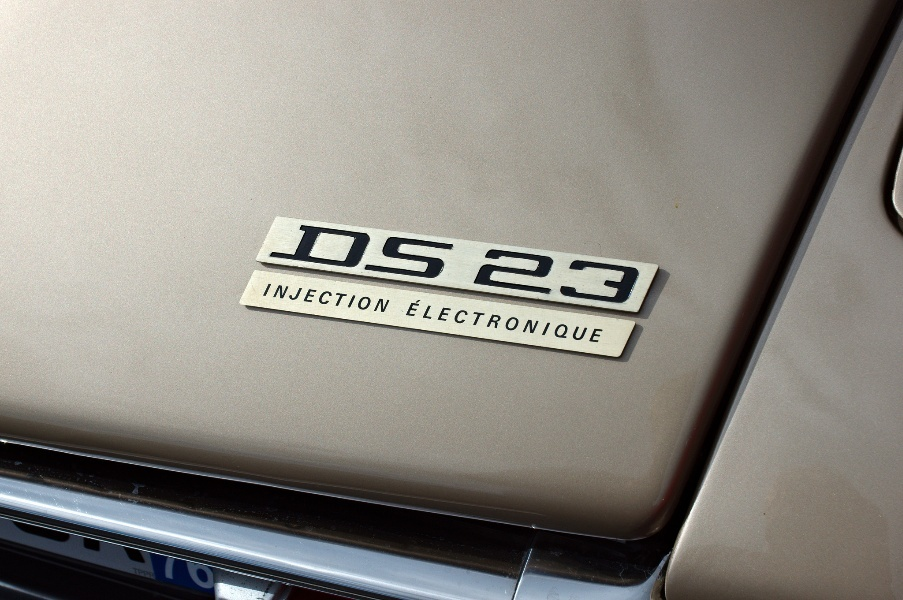text: (497, 246, 512, 309), (513, 246, 528, 309), (529, 246, 544, 309), (545, 246, 560, 309), (561, 246, 576, 309), (577, 246, 592, 309), (593, 246, 608, 309), (609, 246, 624, 309), (625, 246, 640, 309), (305, 224, 320, 280), (321, 224, 336, 280), (337, 224, 352, 280), (353, 224, 368, 280), (369, 224, 384, 280), (385, 224, 400, 280), (401, 224, 416, 280), (417, 224, 432, 280), (433, 224, 448, 280), (417, 299, 432, 344), (433, 299, 448, 344), (449, 299, 464, 344), (465, 299, 480, 344), (481, 299, 496, 344), (497, 299, 512, 344), (513, 299, 528, 344), (529, 299, 544, 344), (545, 299, 560, 344), (561, 299, 576, 344), (577, 299, 592, 344), (161, 552, 176, 592), (177, 552, 192, 592), (193, 552, 208, 592), (593, 299, 605, 344), (273, 284, 288, 314), (289, 284, 304, 314), (305, 284, 320, 314), (321, 284, 336, 314), (337, 284, 352, 314), (353, 284, 368, 314), (369, 284, 384, 314), (489, 246, 496, 309), (449, 224, 456, 280), (209, 552, 217, 592), (299, 224, 304, 280), (153, 552, 160, 592), (385, 284, 392, 314), (132, 567, 144, 580), (145, 567, 157, 580), (413, 299, 416, 344), (269, 284, 272, 314), (641, 246, 642, 309)
